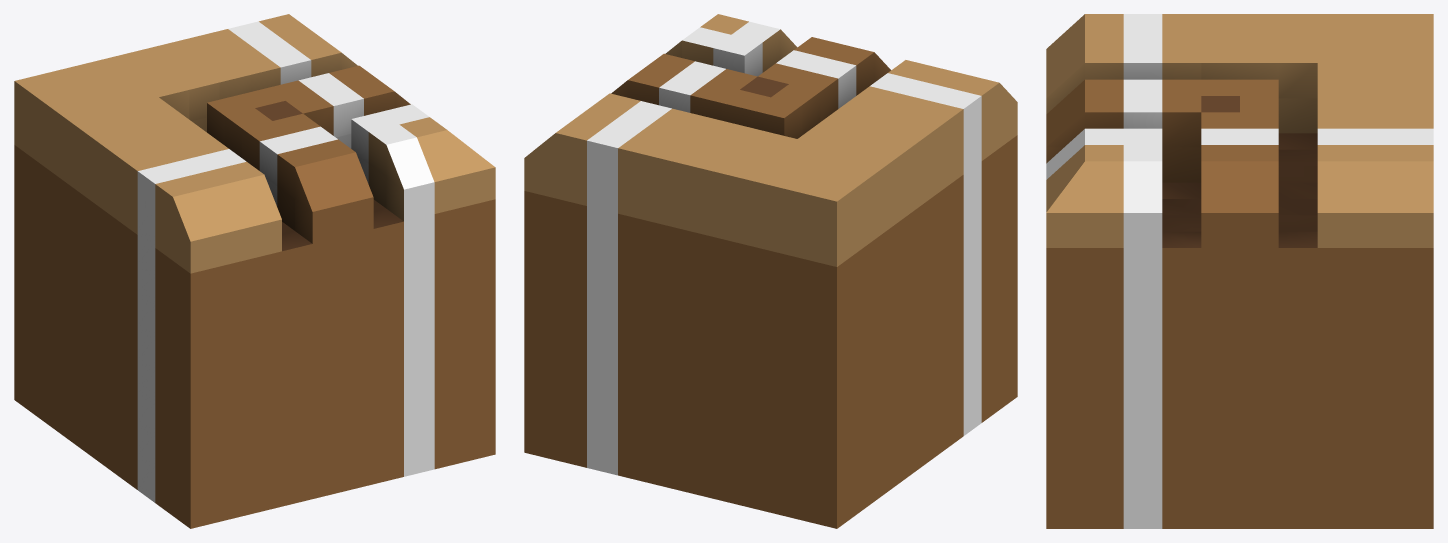
The model's file is wood_tile_voxel_corner.fbx.
The picture shows the model from 3 angles, left to right: view 1: azimuth 30°, elevation 25°; view 2: azimuth 150°, elevation 25°; view 3: azimuth 270°, elevation 25°; orthographic projection. The views are drawn at different scales.
Parts seen in each view (by area): view 1: Block, Plank2, Plank1, Plank3; view 2: Block, Plank2, Plank1, Plank3; view 3: Block, Plank2, Plank1, Plank3.
Boxes of the visible parts, x1,y1,x2,y2 form: Block: [14, 145, 495, 528]; Plank2: [14, 14, 357, 273]; Plank1: [207, 65, 410, 243]; Plank3: [351, 104, 495, 221]; Block: [524, 135, 1017, 528]; Plank2: [524, 60, 1017, 266]; Plank1: [611, 37, 890, 138]; Plank3: [665, 14, 797, 76]; Block: [1046, 133, 1433, 528]; Plank2: [1046, 14, 1433, 247]; Plank1: [1046, 79, 1278, 247]; Plank3: [1046, 128, 1162, 247].
Size of the model in its own units: 100 by 100 by 100.
